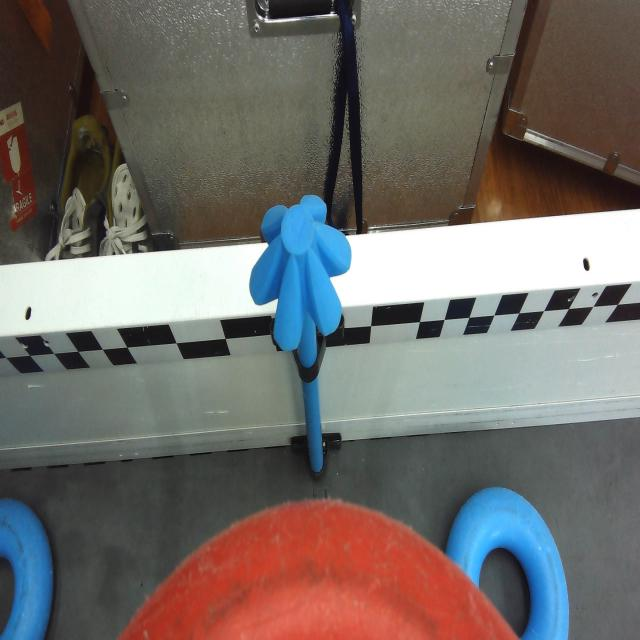zblue-Stake-Head: (250, 194, 352, 350)
